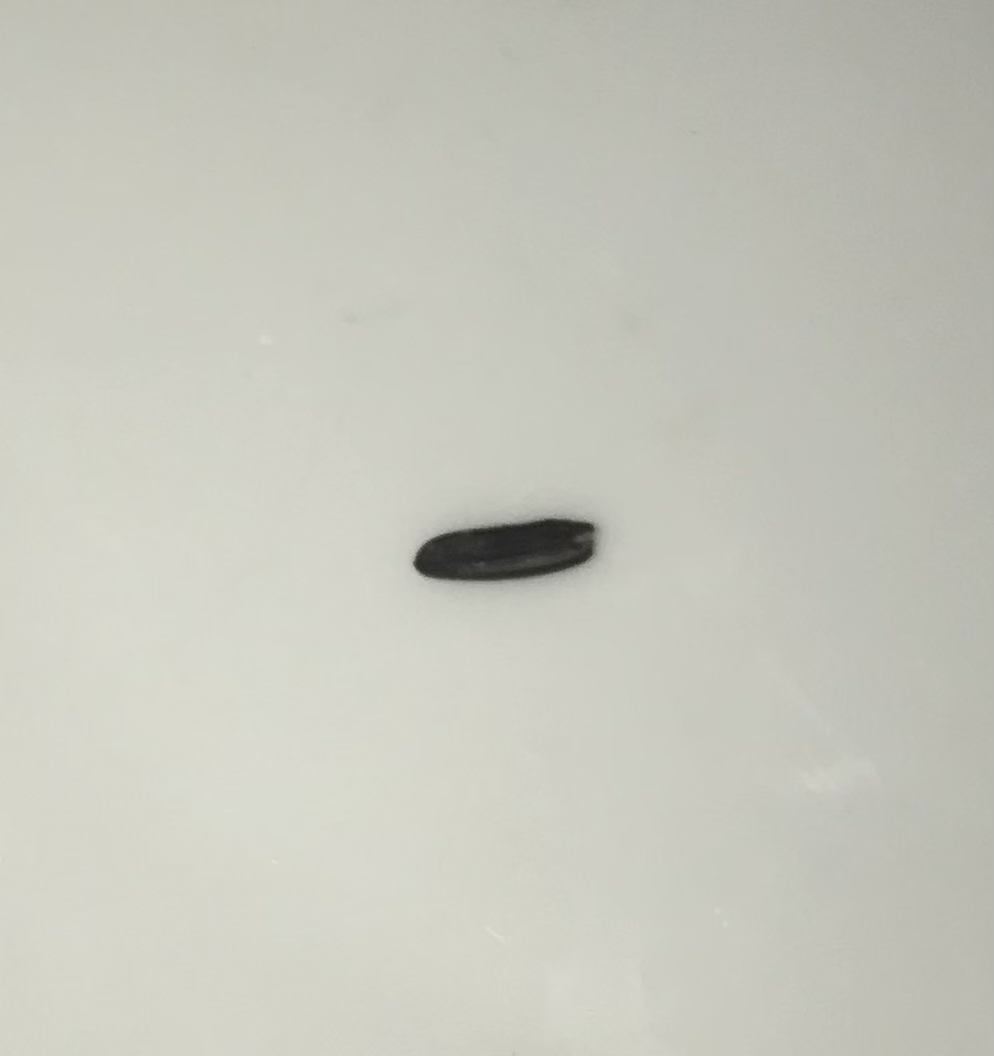Gao Nep Cam: (408, 506, 621, 605)
